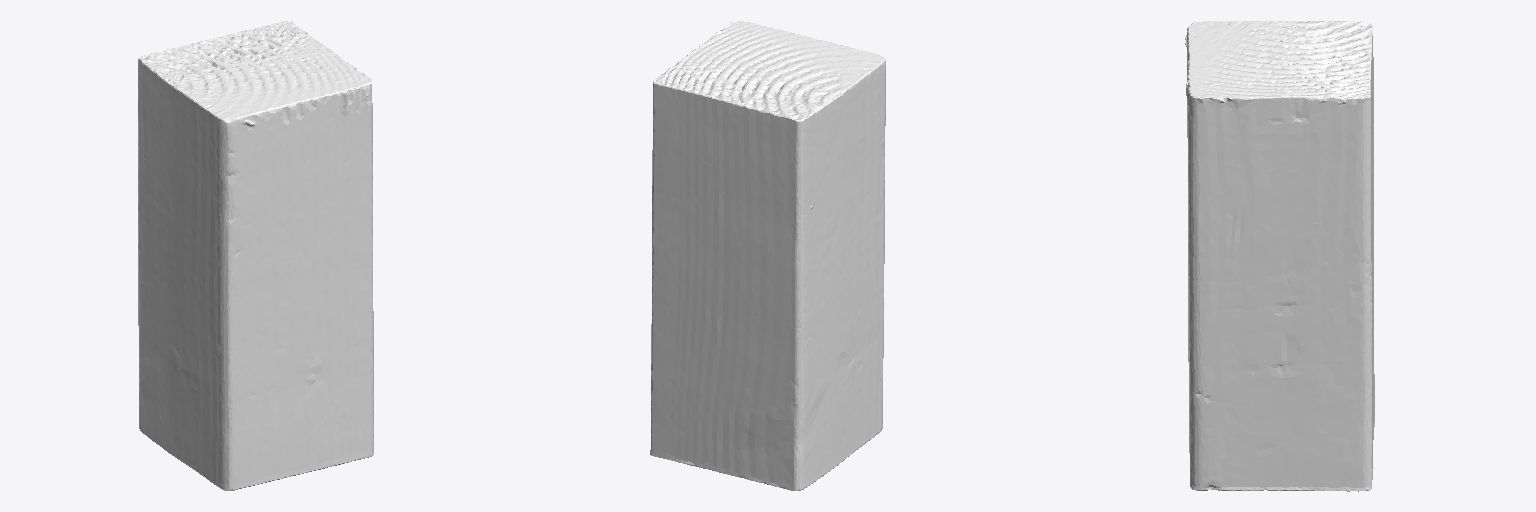
robot.urdf — h_cups:
<robot name="h_cups">
	<link name="base_link">
		<visual>
			<origin xyz="-0.002535841918525972 -0.014808556940255405 -0.03593436586751651" rpy="0.0 0.0 0.0" />
			<geometry>
				<mesh filename="065-h_cups/google_16k/textured.obj" scale="1 1 1" />
			</geometry>
			<material name="texture">
				<color rgba="1.0 1.0 1.0 1.0" />
			</material>
		</visual>
		<collision>
			<origin xyz="-0.002535841918525972 -0.014808556940255405 -0.03593436586751651" rpy="0.0 0.0 0.0" />
			<geometry>
				<mesh filename="065-h_cups/google_16k/textured_vhacd.obj" scale="1 1 1" />
			</geometry>
		</collision>
		<inertial>
			<mass value="0.031" />
			<inertia ixx="1e-3" ixy="0.0" ixz="0.0" iyy="1e-3" iyz="0.0" izz="1e-3" />
		</inertial>
	</link>
</robot>

--- Render facts (derived) ---
3 views of the same robot in one strip: view 1: azimuth 30°, elevation 25°; view 2: azimuth 150°, elevation 25°; view 3: azimuth 270°, elevation 25° (orthographic).
Model h_cups with 1 links and 0 joints (none), rooted at base_link, posed all joints at 0.
Visible links, largest first — view 1: base_link; view 2: base_link; view 3: base_link.
Link boxes in pixels (left/top/right/bottom): base_link: left=138, top=21, right=373, bottom=490; base_link: left=650, top=21, right=885, bottom=490; base_link: left=1185, top=20, right=1374, bottom=491.
Bounding box of the posed robot: 0.0906 × 0.0899 × 0.206 m (x, y, z).
Meshes: 1 distinct files referenced, 1 mesh visuals loaded (1 OBJ).